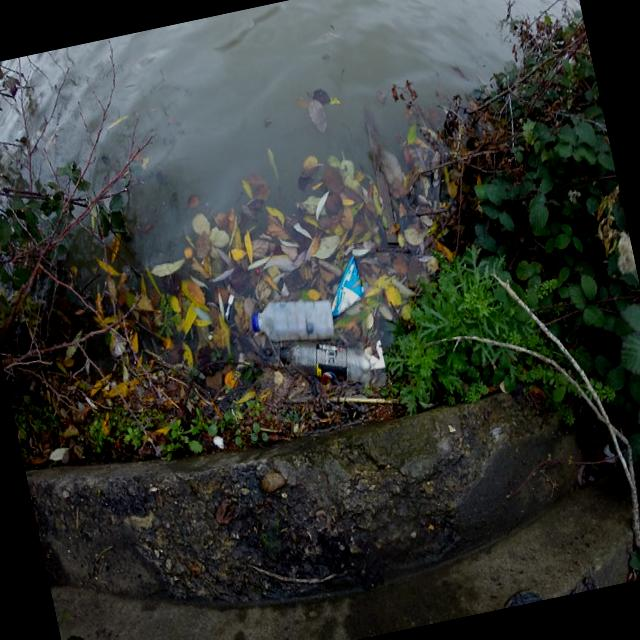Recycle: (280, 329, 376, 404), (246, 284, 339, 355)
Trash: (320, 252, 370, 316)
